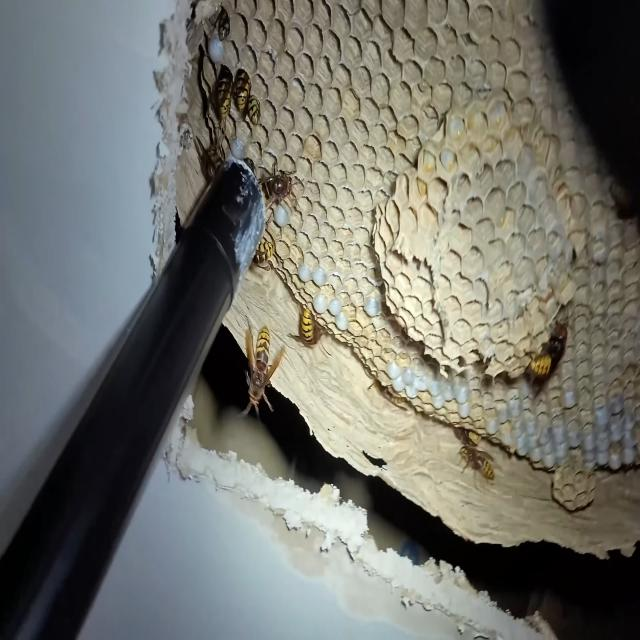Hornets: (238, 320, 286, 422), (523, 318, 569, 383), (457, 425, 496, 488)
